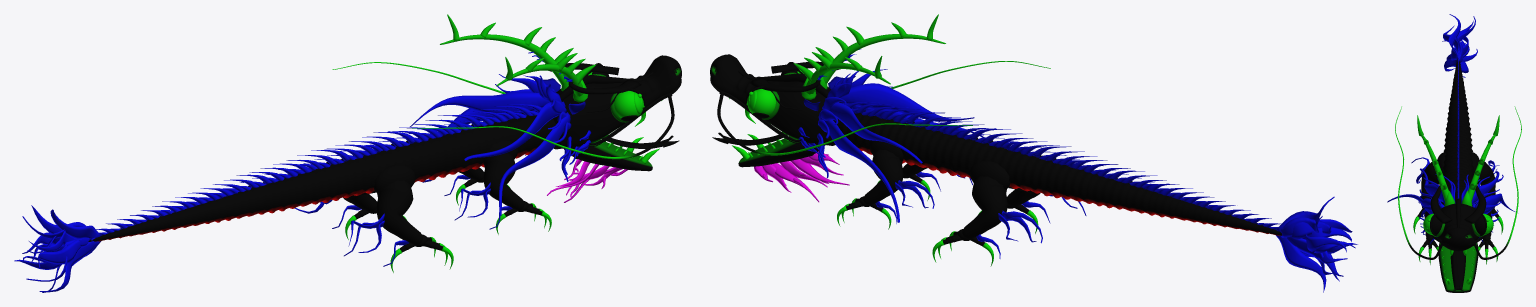
File: dragon301.glb
The picture shows the model from 3 angles, left to right: view 1: azimuth 30°, elevation 25°; view 2: azimuth 150°, elevation 25°; view 3: azimuth 270°, elevation 25°; orthographic projection. The views are drawn at different scales.
Parts seen in each view (by area): view 1: d301-dragon; view 2: d301-dragon; view 3: d301-dragon.
Part boxes in pixels (x1,y1,x2,y2): d301-dragon: (14, 14, 681, 292); d301-dragon: (710, 14, 1357, 292); d301-dragon: (1387, 14, 1521, 292).
Size of the model in its own units: 32 by 9.41 by 8.12.
